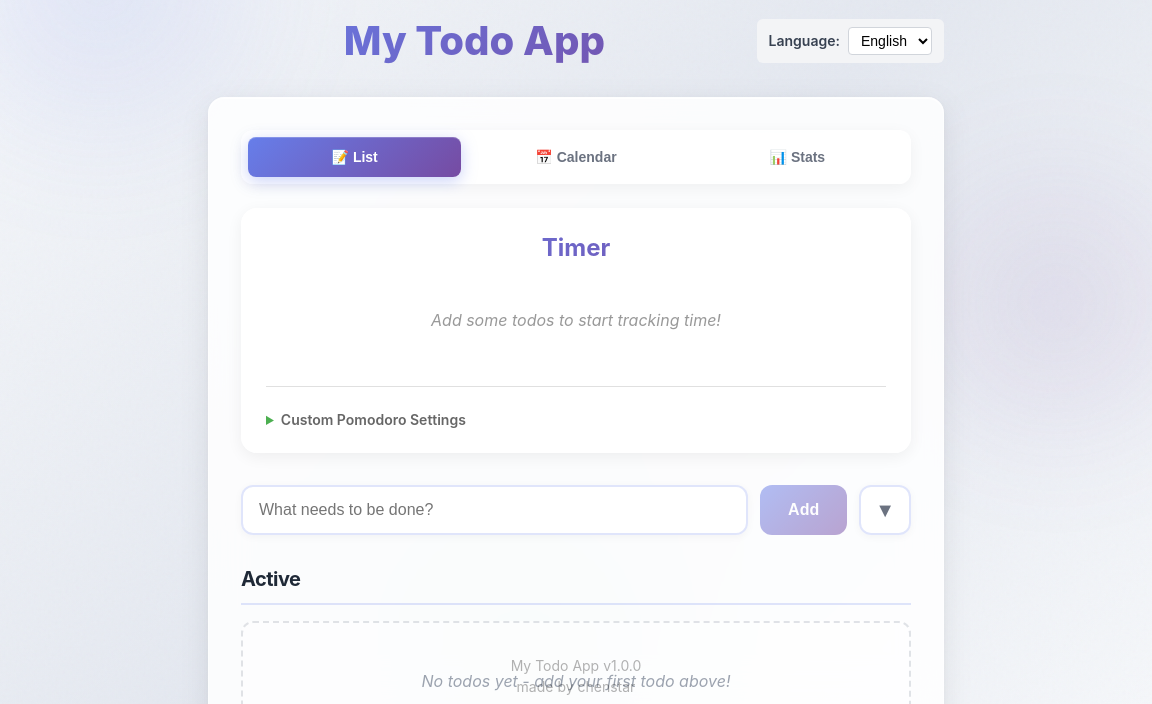
Test: Todo App Integration - Create Todo › should add new todos to the top of the list
Type "First todo" into the field. click: (495, 510)
box: [241,485,748,535]
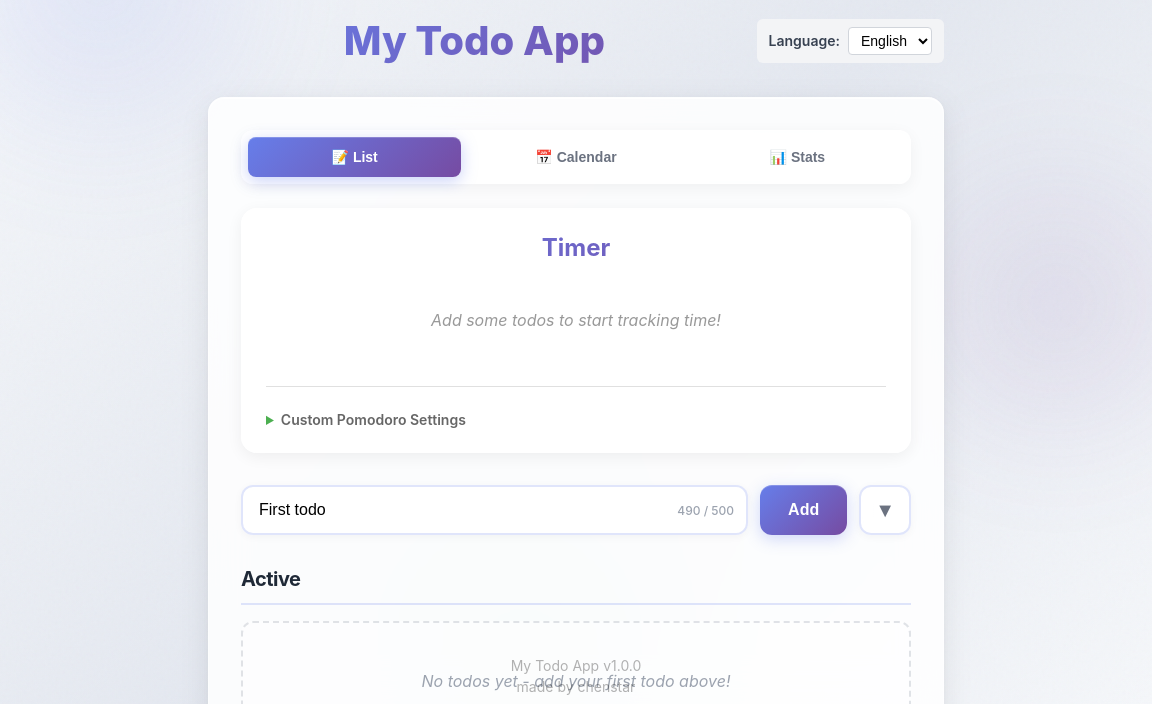
Submit the form, box [241,485,911,535]
(page scrolled)
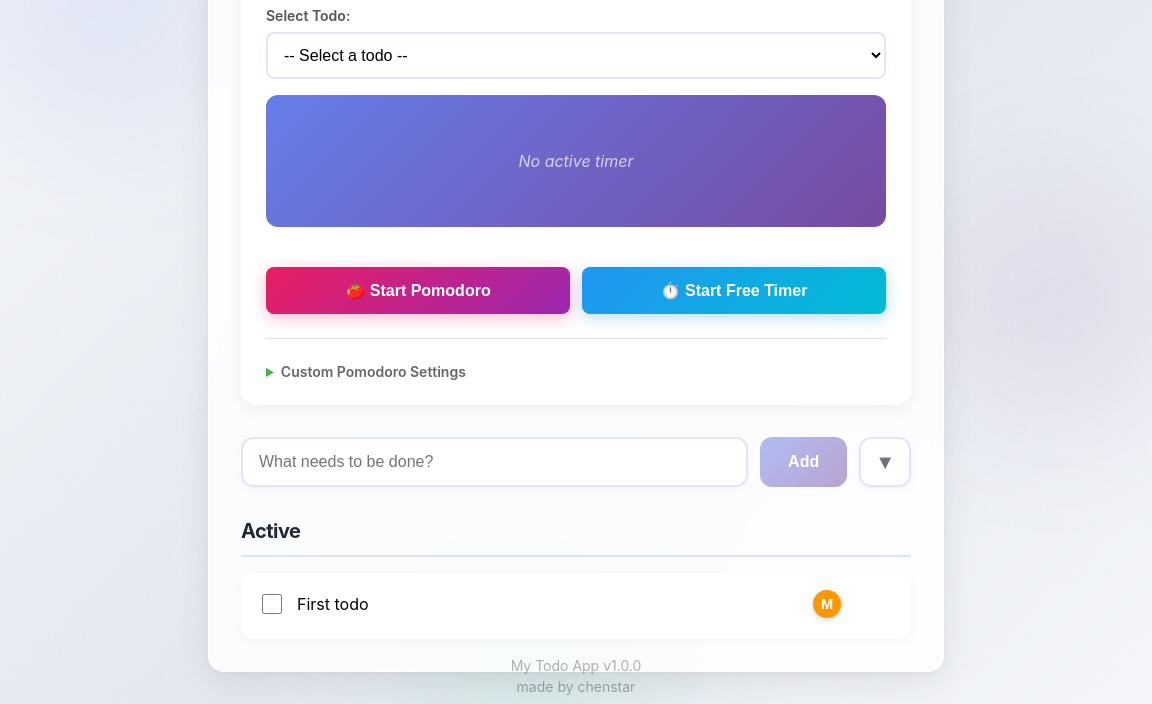
Type "Second todo" into the field. click: (495, 462)
box: [241,437,748,487]
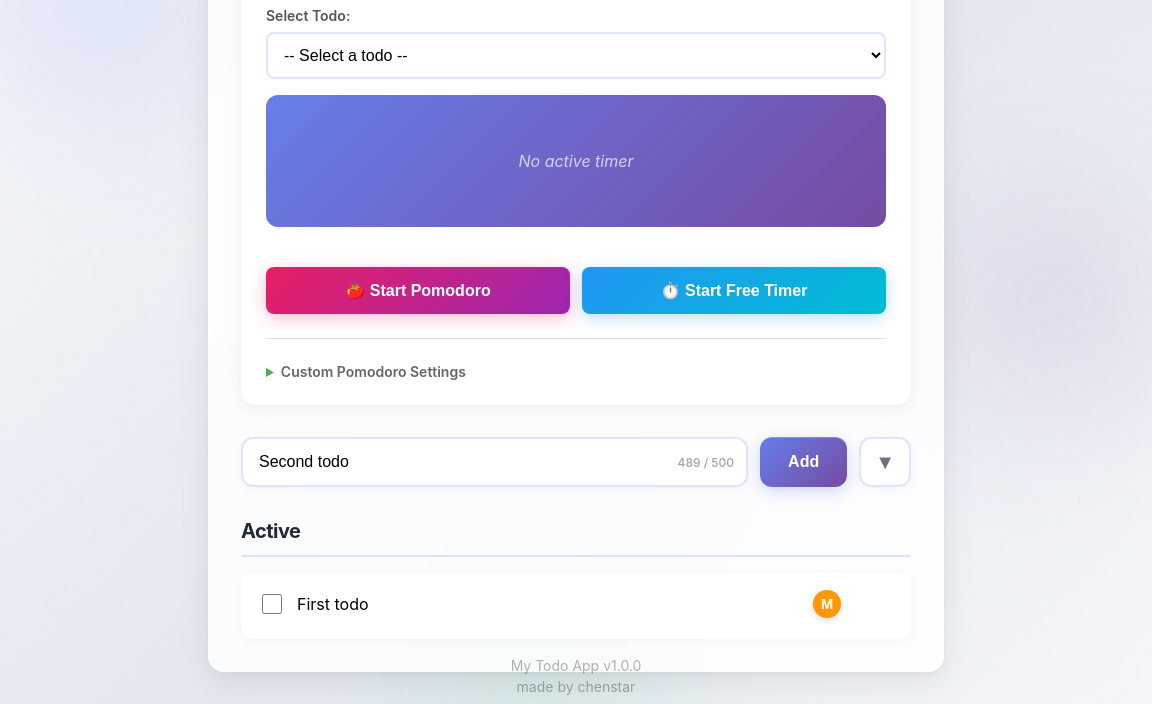
Submit the form, box [241,437,911,487]
(page scrolled)
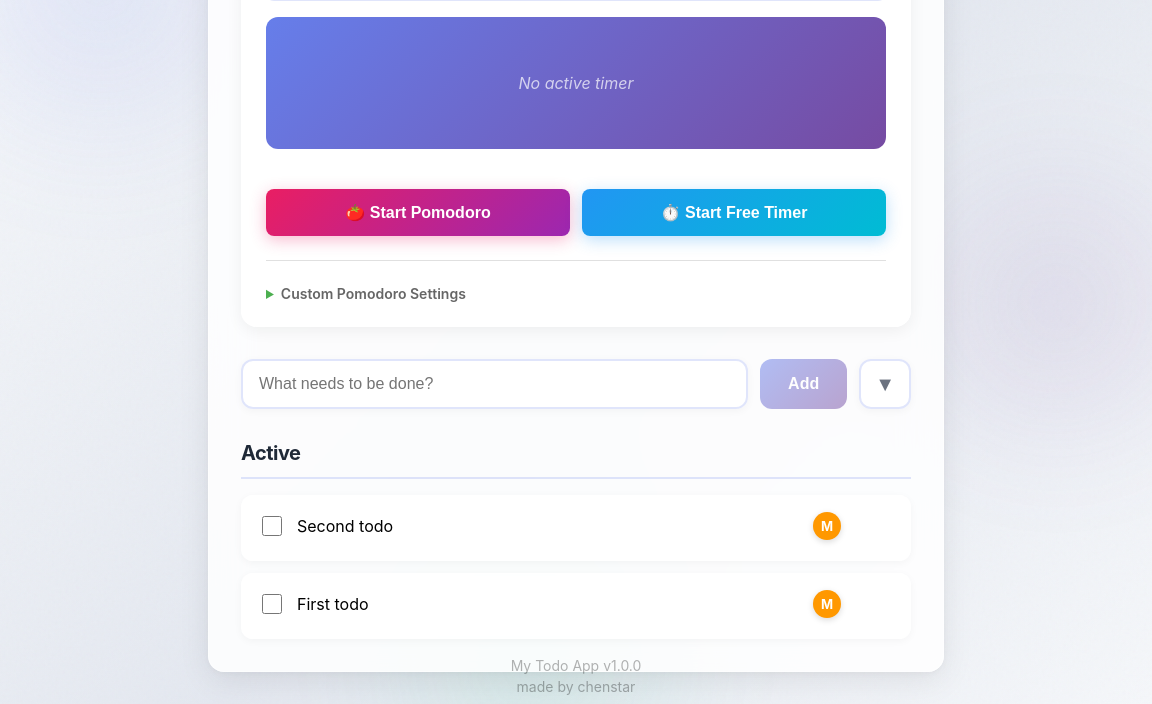
expect the list item "First todo M" is shown: met, box [241,573,911,639]
expect the number of list items is 2: met, box [241,495,911,561]; [241,573,911,639]
expect the list item "Second todo M" is shown: met, box [241,495,911,561]
